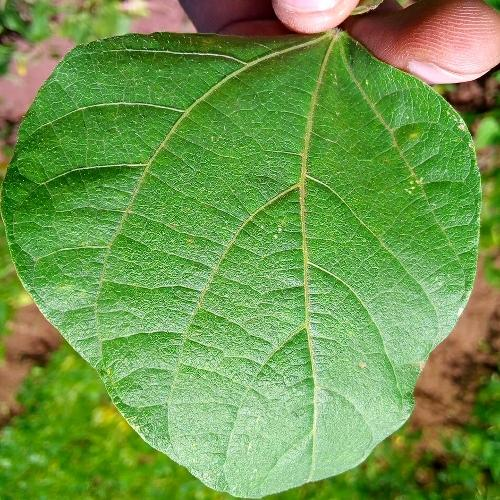sehat: (119, 83, 399, 410)
